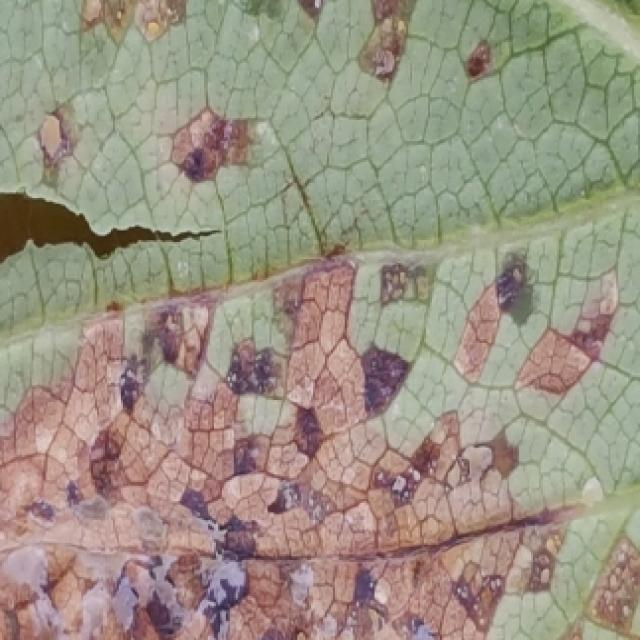Angular Leafspot: (0, 0, 640, 640)
